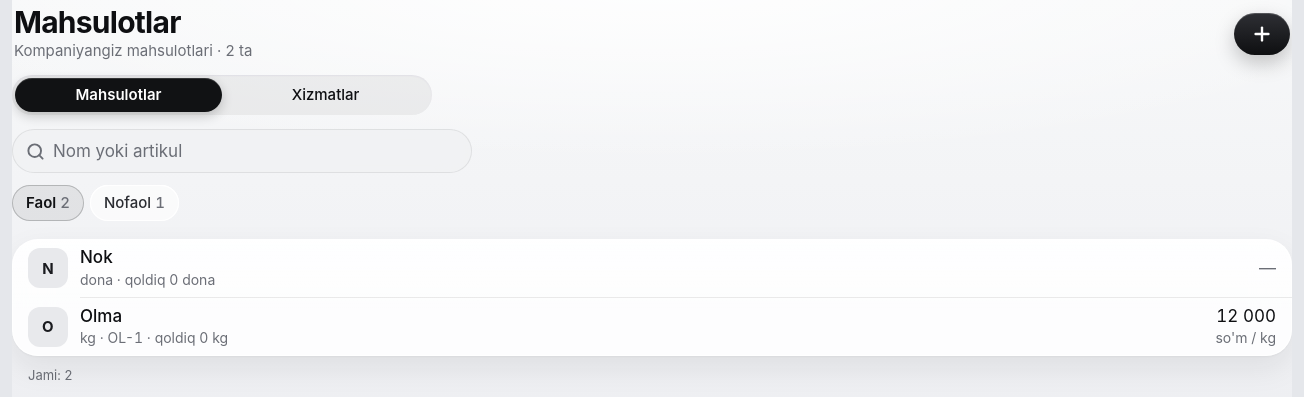
Test: the chips say how many are active and how many are not; the inactive ones are under their own
Click the radio button labelled "Nofaol 1" at coordinates (134, 203), box [90,185,179,221]
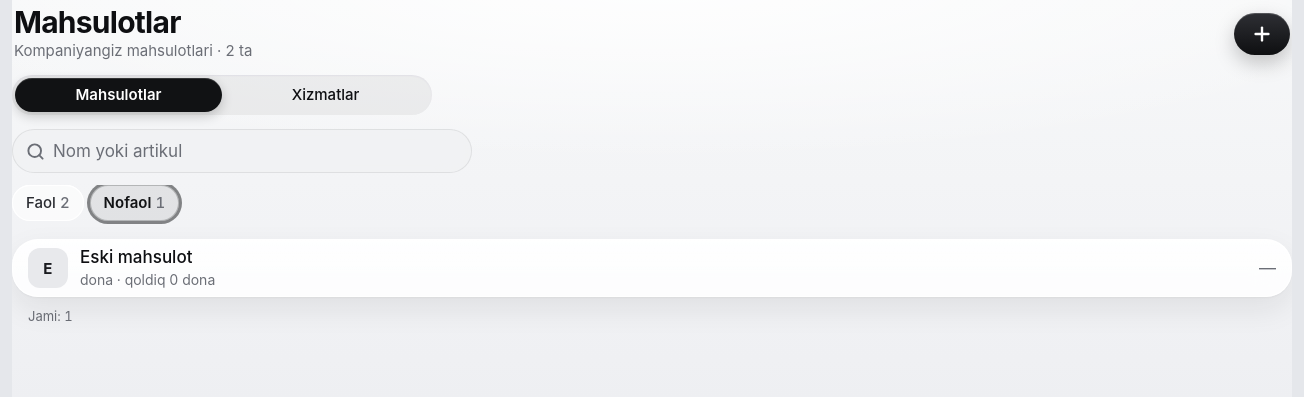
expect the text "Eski mahsulot" is shown: met, box [80,247,192,269]
expect the link "Olma" is gone: met
